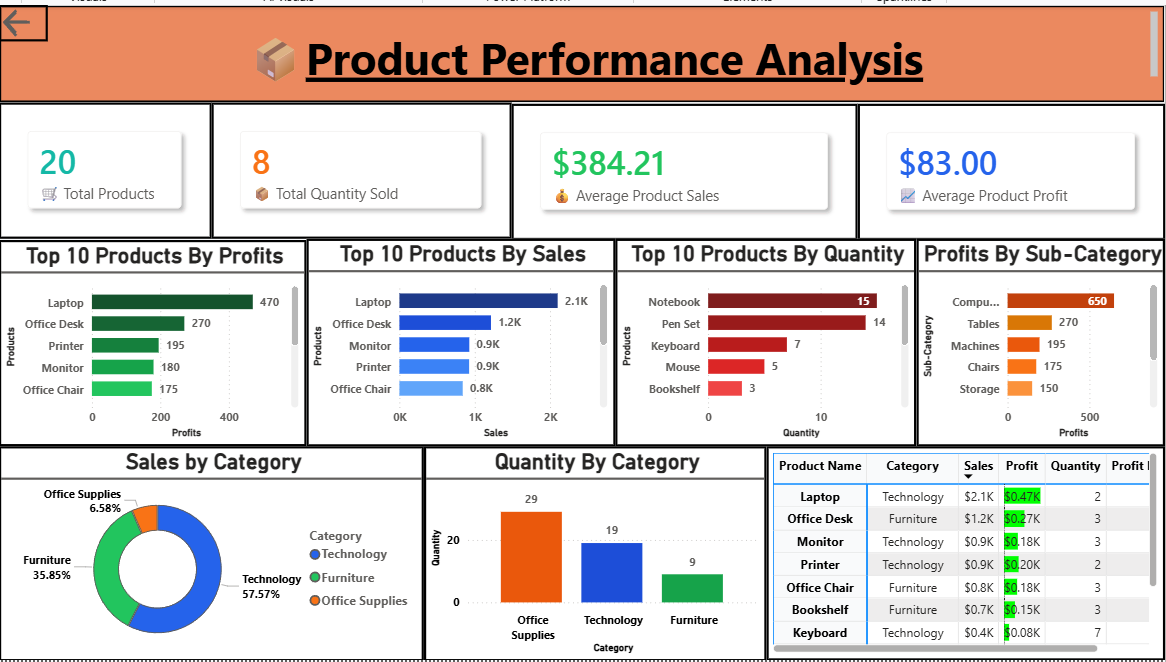

The dashboard page shown, as its layout file describes it:
{"tool":"powerbi","page":{"name":"Page 3","canvas":[1280,720],"ordinal":2},"visuals":[{"type":"textbox","box":[0,0,1280.3,107],"z":0},{"type":"cardVisual","fields":{"Data":["CountNonNull(Sheet1.product_id)"]},"box":[0,107,233.3,149.6],"z":1000},{"type":"cardVisual","fields":{"Data":["Count(Sheet1.quantity)"]},"box":[233.3,107,329.3,149.6],"z":2000},{"type":"cardVisual","fields":{"Data":["Avg(Sheet1.sales_amount)"]},"box":[562.6,108.4,380.1,149.6],"z":3000},{"type":"cardVisual","fields":{"Data":["Avg(Sheet1.profit)"]},"box":[942.7,108.4,337.6,149.6],"z":4000},{"type":"clusteredBarChart","title":"Top 10 Products By Profits","fields":{"Category":["Sheet1.product_Name"],"Y":["Sum(Sheet1.profit)"]},"box":[0,258,337.6,226.4],"z":5000},{"type":"clusteredBarChart","title":"Top 10 Products By Sales","fields":{"Category":["Sheet1.product_Name"],"Y":["Sum(Sheet1.sales_amount)"]},"box":[337.6,256.6,338.9,227.8],"z":6000},{"type":"clusteredBarChart","title":"Top 10 Products By Quantity","fields":{"Category":["Sheet1.product_Name"],"Y":["Sum(Sheet1.quantity)"]},"box":[676.5,256.6,330.7,227.8],"z":7000},{"type":"donutChart","title":"Sales by Category","fields":{"Category":["Sheet1.category"],"Y":["Sum(Sheet1.sales_amount)"]},"box":[0,484.4,466.6,236],"z":8000},{"type":"clusteredBarChart","title":"Profits By Sub-Category","fields":{"Category":["Sheet1.sub_category"],"Y":["Sum(Sheet1.profit)"]},"box":[1007.2,256.6,273.1,227.8],"z":9000},{"type":"clusteredColumnChart","title":"Quantity By Category","fields":{"Category":["Sheet1.category"],"Y":["Sum(Sheet1.quantity)"]},"box":[466.6,484.4,376,236],"z":10000},{"type":"pivotTable","fields":{"Rows":["Sheet1.product_Name"],"Values":["Min(Sheet1.category)","Sum(Sheet1.sales_amount)","Sum(Sheet1.profit)","Sum(Sheet1.quantity)","Sheet1.Profit_Margin %"]},"box":[842.5,483.8,437.5,235],"z":11000},{"type":"actionButton","box":[0,0,53.5,39.8],"z":11001},{"type":"actionButton","box":[0,0,53.5,39.8],"z":11002}]}

Visuals, with their boxes in screenshot pixels (x1, y1, x2, y2):
textbox: <box>6,6,1156,102</box>
cardVisual - CountNonNull(Sheet1.product_id): <box>6,102,216,237</box>
cardVisual - Count(Sheet1.quantity): <box>216,102,511,237</box>
cardVisual - Avg(Sheet1.sales_amount): <box>511,103,853,238</box>
cardVisual - Avg(Sheet1.profit): <box>853,103,1156,238</box>
"Top 10 Products By Profits" clusteredBarChart: <box>6,238,309,441</box>
"Top 10 Products By Sales" clusteredBarChart: <box>309,237,614,441</box>
"Top 10 Products By Quantity" clusteredBarChart: <box>614,237,911,441</box>
"Sales by Category" donutChart: <box>6,441,425,653</box>
"Profits By Sub-Category" clusteredBarChart: <box>911,237,1156,441</box>
"Quantity By Category" clusteredColumnChart: <box>425,441,763,653</box>
pivotTable - Sheet1.product_Name x Min(Sheet1.category): <box>763,441,1156,652</box>
actionButton: <box>6,6,54,42</box>
actionButton: <box>6,6,54,42</box>
